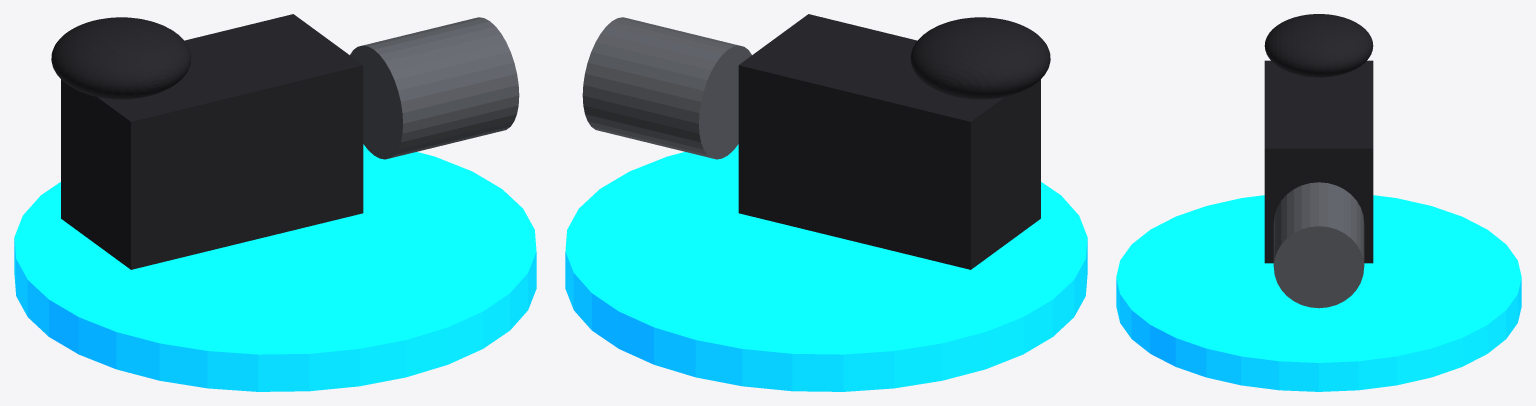
The model's file is news_video_camera.glb.
3 renders of one model, left to right at view 1: azimuth 30°, elevation 25°; view 2: azimuth 150°, elevation 25°; view 3: azimuth 270°, elevation 25°, orthographic. The views are drawn at different scales.
Parts seen in each view (by area): view 1: 09_03_Popular_News_Video_Camera_ROOT_base, 09_03_Popular_News_Video_Camera_part_01, 09_03_Popular_News_Video_Camera_part_02, 09_03_Popular_News_Video_Camera_part_03; view 2: 09_03_Popular_News_Video_Camera_ROOT_base, 09_03_Popular_News_Video_Camera_part_01, 09_03_Popular_News_Video_Camera_part_02, 09_03_Popular_News_Video_Camera_part_03; view 3: 09_03_Popular_News_Video_Camera_ROOT_base, 09_03_Popular_News_Video_Camera_part_01, 09_03_Popular_News_Video_Camera_part_02, 09_03_Popular_News_Video_Camera_part_03.
Part boxes in pixels (x1,y1,x2,y2): 09_03_Popular_News_Video_Camera_ROOT_base: (14,144,536,391); 09_03_Popular_News_Video_Camera_part_01: (61,14,363,269); 09_03_Popular_News_Video_Camera_part_02: (350,17,519,159); 09_03_Popular_News_Video_Camera_part_03: (51,17,191,99); 09_03_Popular_News_Video_Camera_ROOT_base: (565,144,1087,391); 09_03_Popular_News_Video_Camera_part_01: (738,14,1040,269); 09_03_Popular_News_Video_Camera_part_02: (582,17,751,159); 09_03_Popular_News_Video_Camera_part_03: (910,17,1050,99); 09_03_Popular_News_Video_Camera_ROOT_base: (1116,195,1521,391); 09_03_Popular_News_Video_Camera_part_01: (1264,60,1373,263); 09_03_Popular_News_Video_Camera_part_02: (1273,182,1364,308); 09_03_Popular_News_Video_Camera_part_03: (1264,14,1373,77).
Size of the model in its own units: 0.76 by 0.4637 by 0.76.
